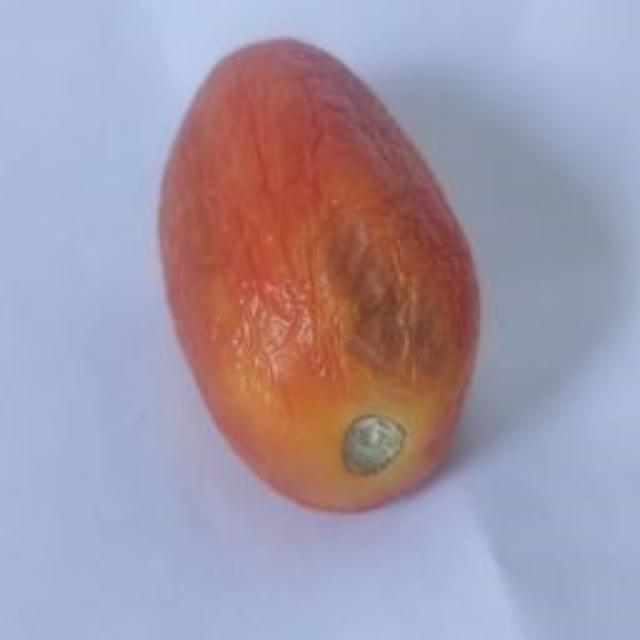defect: (152, 34, 484, 517)
